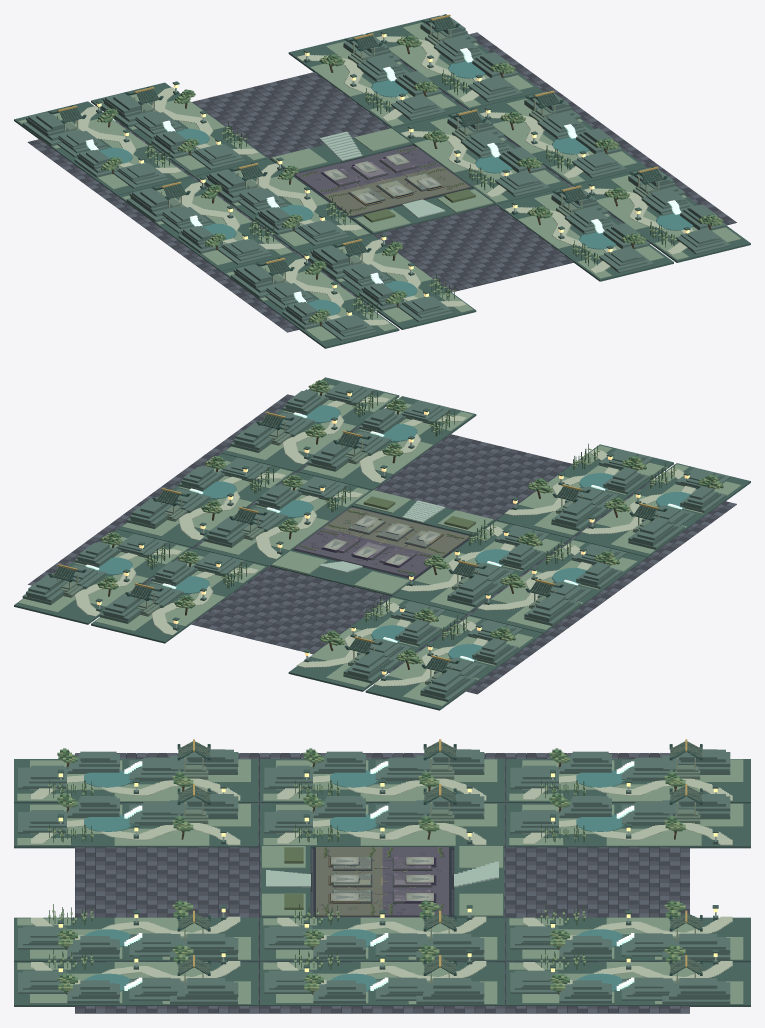
The model's file is xianxia.glb.
3 renders of one model, top to bottom at view 1: azimuth 30°, elevation 25°; view 2: azimuth 150°, elevation 25°; view 3: azimuth 270°, elevation 25°, orthographic. The views are drawn at different scales.
Parts seen in each view (by area): view 1: 24_Continuous_Outer_Floor_rock, 24_Continuous_Outer_Floor_rock2, 24_Continuous_Outer_Floor_rock3, 24_Outer_Floor_Mortar, Decorated_Halves_With_Six_Grounded_Stone_Bases, Landscape_Mountain_Strata__West_1_1, Landscape_Mountain_Strata__West_1_-1, Landscape_Mountain_Strata__West_1_0, Landscape_Mountain_Strata, Landscape_Mountain_Strata__West_0_1, Landscape_Mountain_Strata__West_0_-1, Landscape_Mountain_Strata__East_0_0 (+44 smaller); view 2: 24_Continuous_Outer_Floor_rock, 24_Continuous_Outer_Floor_rock2, 24_Continuous_Outer_Floor_rock3, 24_Outer_Floor_Mortar, Decorated_Halves_With_Six_Grounded_Stone_Bases, Landscape_Mountain_Strata__West_1_0, Landscape_Mountain_Strata__West_1_-1, Landscape_Mountain_Strata__West_1_1, Landscape_Mountain_Strata__East_0_0, Landscape_Mountain_Strata__East_1_0, Landscape_Mountain_Strata__East_0_-1, Landscape_Mountain_Strata__East_0_1 (+44 smaller); view 3: 24_Continuous_Outer_Floor_rock2, 24_Continuous_Outer_Floor_rock, 24_Continuous_Outer_Floor_rock3, Decorated_Halves_With_Six_Grounded_Stone_Bases, 24_Outer_Floor_Mortar, Landscape_Mountain_Strata__East_1_0, Landscape_Mountain_Strata__East_1_-1, Landscape_Mountain_Strata__East_1_1, Landscape_Mountain_Strata__East_0_-1, Landscape_Mountain_Strata__East_0_0, Landscape_Mountain_Strata__East_0_1, Landscape_Mountain_Strata__West_1_1 (+51 smaller).
Boxes of the visible parts, box(x1,y1,x2,y2) form: 24_Continuous_Outer_Floor_rock: box(28, 35, 732, 329); 24_Continuous_Outer_Floor_rock2: box(32, 34, 736, 328); 24_Continuous_Outer_Floor_rock3: box(36, 32, 727, 331); 24_Outer_Floor_Mortar: box(28, 34, 736, 332); Decorated_Halves_With_Six_Grounded_Stone_Bases: box(295, 145, 469, 216); Landscape_Mountain_Strata__West_1_1: box(230, 264, 376, 340); Landscape_Mountain_Strata__West_1_-1: box(22, 112, 168, 188); Landscape_Mountain_Strata__West_1_0: box(126, 188, 272, 264); Landscape_Mountain_Strata: box(204, 169, 349, 245); Landscape_Mountain_Strata__West_0_1: box(308, 245, 453, 322); Landscape_Mountain_Strata__West_0_-1: box(100, 93, 245, 169); Landscape_Mountain_Strata__East_0_0: box(447, 109, 549, 197); 24_Continuous_Outer_Floor_rock: box(32, 397, 729, 693); 24_Continuous_Outer_Floor_rock2: box(37, 394, 732, 691); 24_Continuous_Outer_Floor_rock3: box(28, 400, 736, 688); 24_Outer_Floor_Mortar: box(28, 397, 736, 694); Decorated_Halves_With_Six_Grounded_Stone_Bases: box(295, 507, 468, 577); Landscape_Mountain_Strata__West_1_0: box(524, 544, 626, 626); Landscape_Mountain_Strata__West_1_-1: box(420, 620, 522, 702); Landscape_Mountain_Strata__West_1_1: box(628, 468, 730, 549); Landscape_Mountain_Strata__East_0_0: box(203, 476, 349, 547); Landscape_Mountain_Strata__East_1_0: box(126, 457, 272, 528); Landscape_Mountain_Strata__East_0_-1: box(99, 552, 245, 623); Landscape_Mountain_Strata__East_0_1: box(307, 400, 453, 471); 24_Continuous_Outer_Floor_rock2: box(75, 753, 689, 1012); 24_Continuous_Outer_Floor_rock: box(75, 753, 689, 1012); 24_Continuous_Outer_Floor_rock3: box(75, 753, 689, 1012); Decorated_Halves_With_Six_Grounded_Stone_Bases: box(316, 847, 448, 916); 24_Outer_Floor_Mortar: box(75, 753, 689, 1013); Landscape_Mountain_Strata__East_1_0: box(264, 970, 484, 1004); Landscape_Mountain_Strata__East_1_-1: box(510, 970, 730, 1004); Landscape_Mountain_Strata__East_1_1: box(18, 970, 238, 1004); Landscape_Mountain_Strata__East_0_-1: box(510, 926, 730, 960); Landscape_Mountain_Strata__East_0_0: box(264, 926, 484, 960); Landscape_Mountain_Strata__East_0_1: box(18, 926, 238, 960); Landscape_Mountain_Strata__West_1_1: box(18, 749, 238, 789).
Size of the model in its own units: 48 by 2.98 by 57.5.
Materials: 40 (1 with a texture image).
